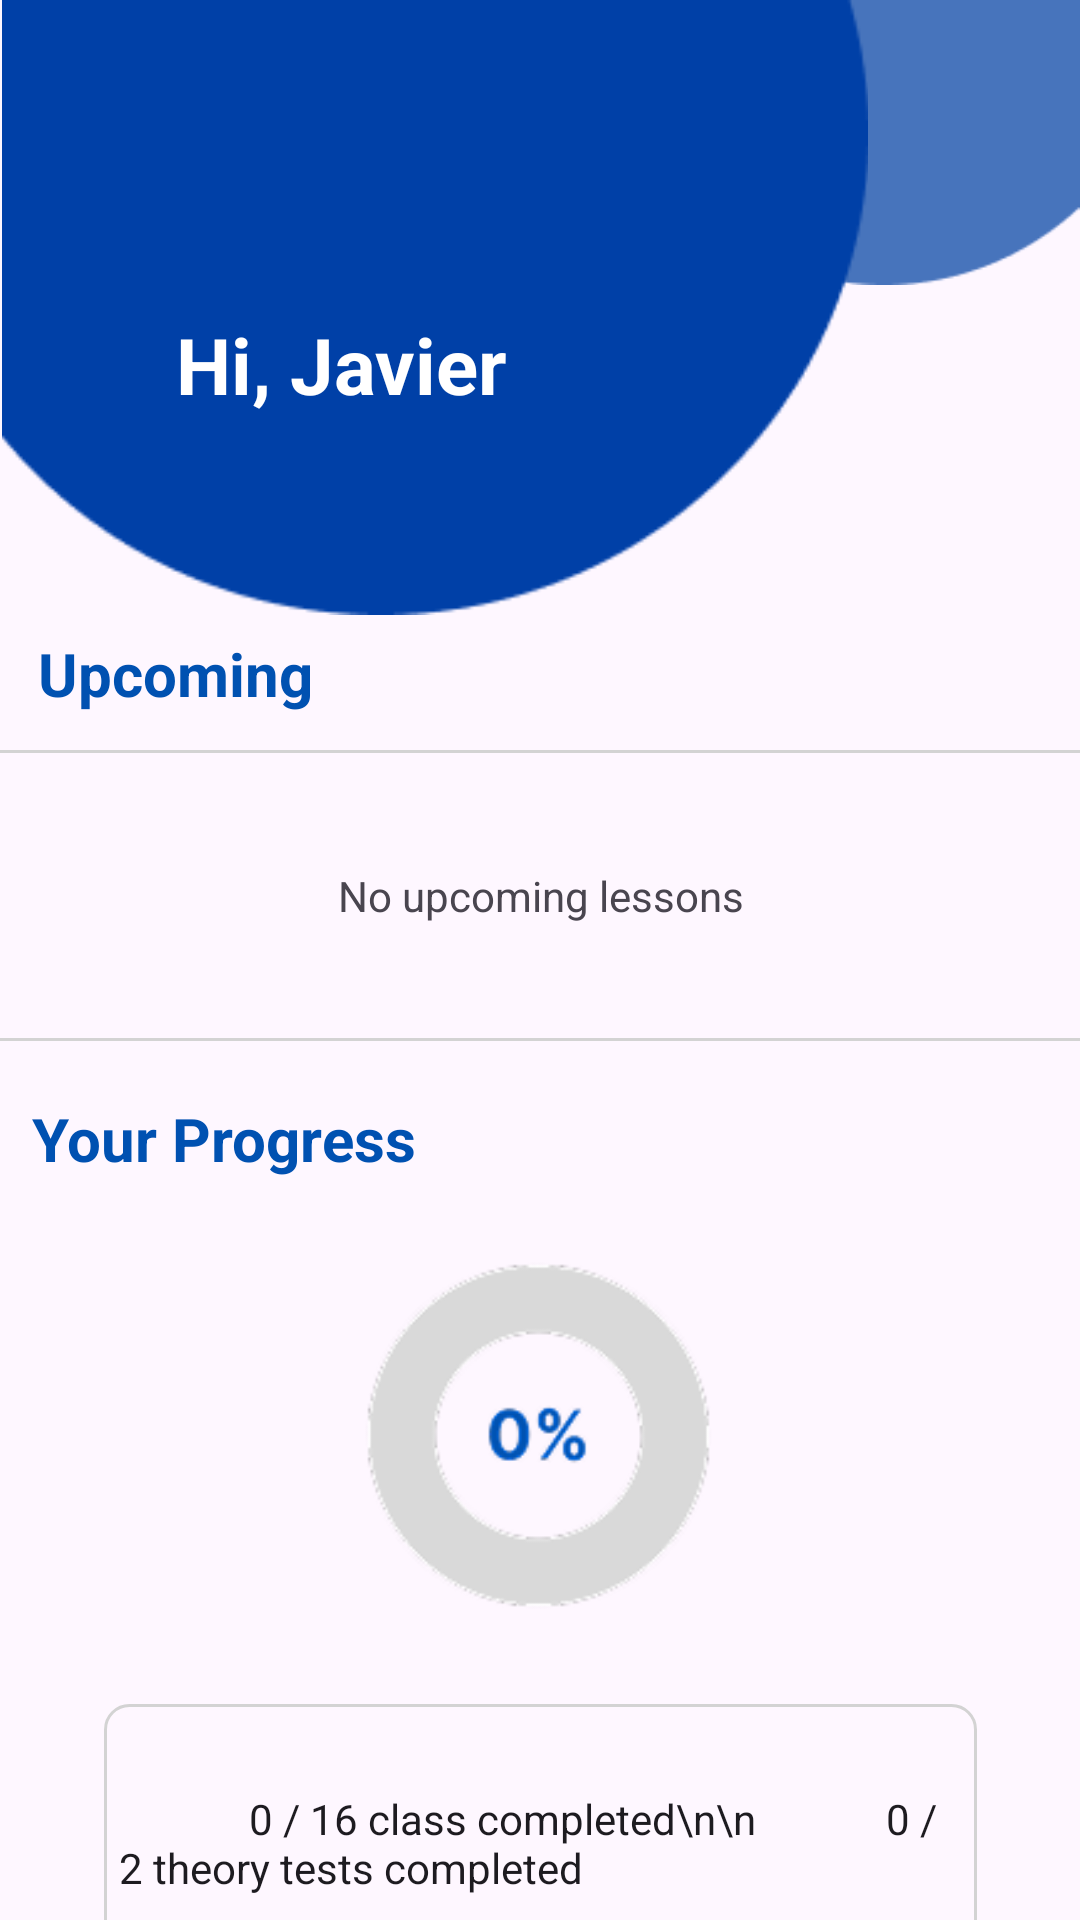

Named icons in this screenshot (1080 × 1920) and their bounding boxes, detection(x1, y1, x2, y2):
Progress Circle Placeholder: detection(368, 1265, 709, 1606)
